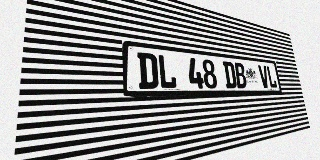4: (187, 57, 204, 89)
8: (201, 59, 218, 88)
B: (234, 62, 247, 88)
D: (137, 52, 159, 89), (222, 61, 237, 88)
L: (157, 54, 177, 89), (266, 66, 277, 88)
V: (258, 65, 270, 88)
